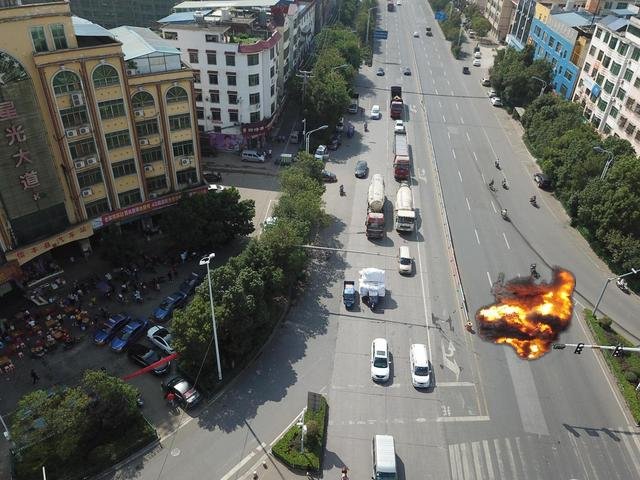fire: (475, 266, 575, 360)
